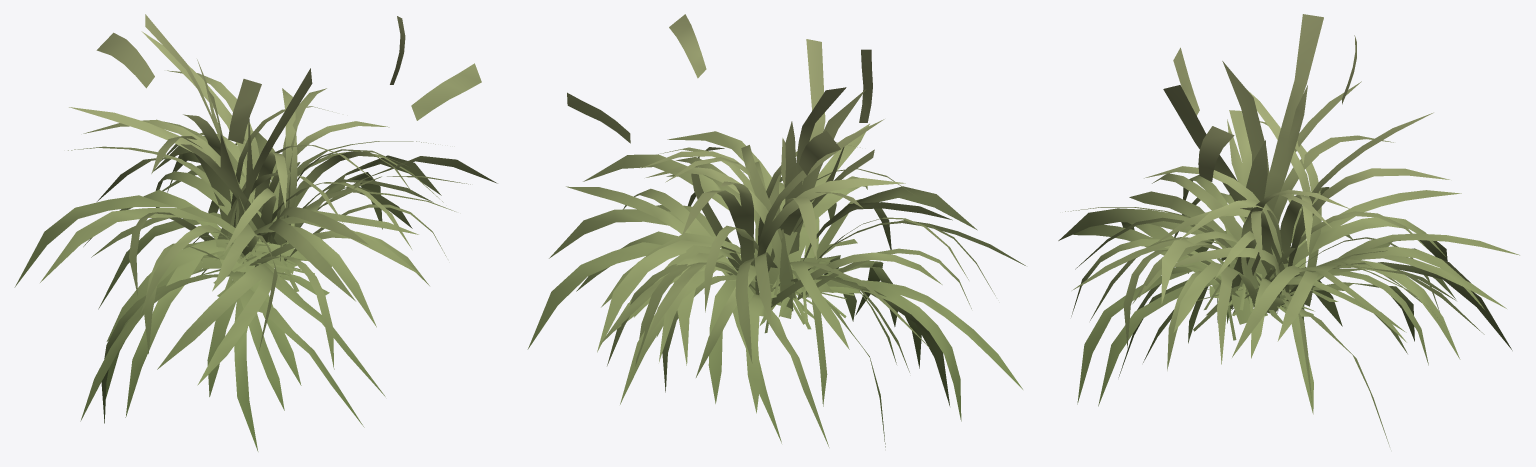
Rendered from Grass Tuft A.glb.
3 views of the same model, side by side, from view 1: azimuth 30°, elevation 25°; view 2: azimuth 150°, elevation 25°; view 3: azimuth 270°, elevation 25° (orthographic). The views are drawn at different scales.
Parts seen in each view (by area): view 1: Grass Tuft A; view 2: Grass Tuft A; view 3: Grass Tuft A.
Part boxes in pixels (x1,y1,x2,y2): Grass Tuft A: (14, 14, 497, 451); Grass Tuft A: (527, 14, 1025, 447); Grass Tuft A: (1058, 14, 1519, 446).
Bounding box in the file's own units: 1.63 × 1.32 × 1.53.
